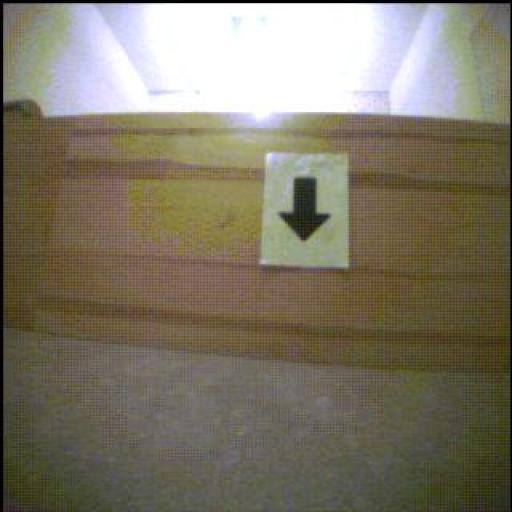arrow: (281, 179, 331, 241)
